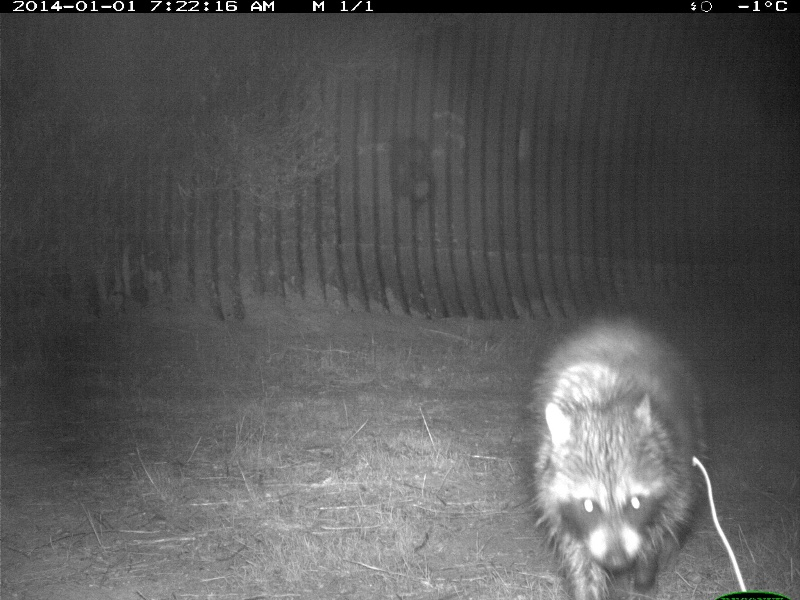raccoon: (530, 316, 708, 592)
